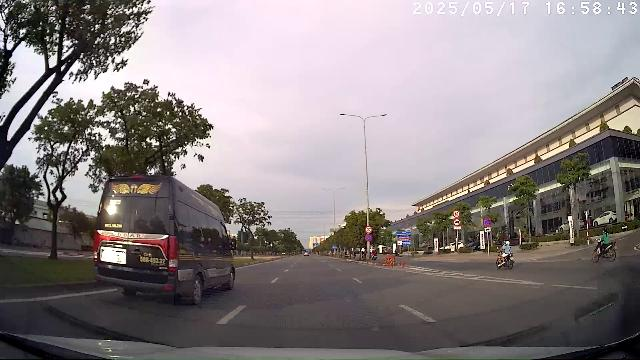127-toc-do-toi-da-60: (452, 210, 460, 218)
